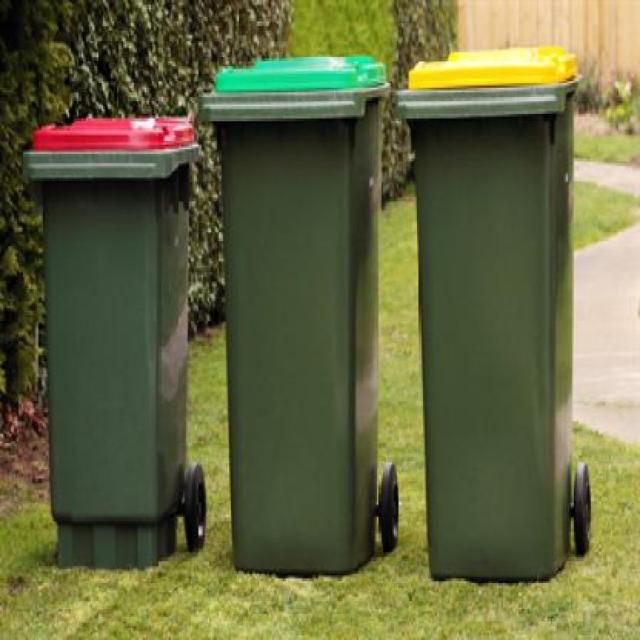garbage container: (389, 35, 602, 597), (197, 49, 406, 591), (20, 90, 209, 593)
